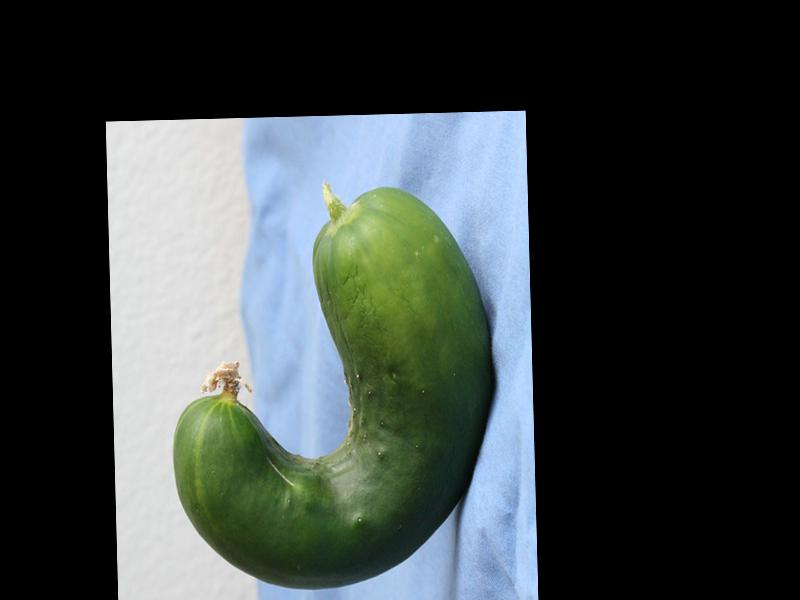Cucumber: (165, 184, 498, 594)
